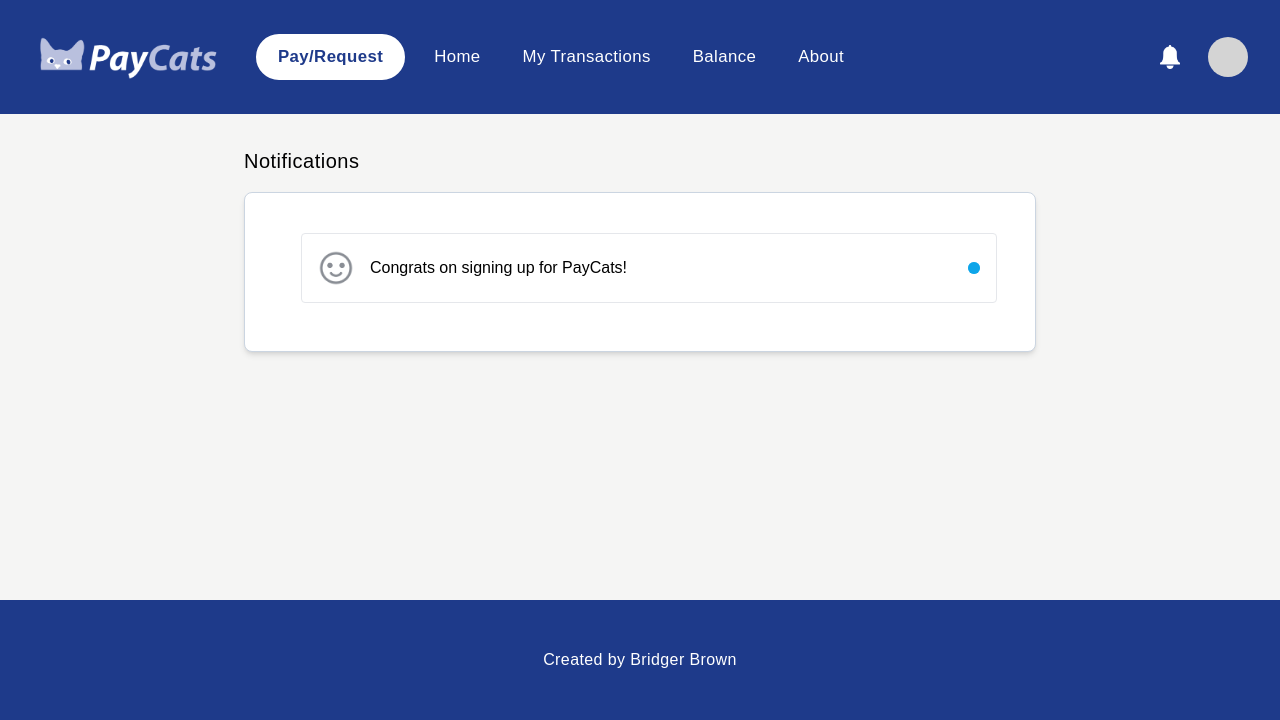
Scenario: Notification component › mark notifications as read on mouse over
Expected: the element with test id "notification-unread" is shown, [301, 233, 997, 303]
Hover over the link with test id "notification-unread" at {"x": 641, "y": 268}, box [285, 225, 997, 311]
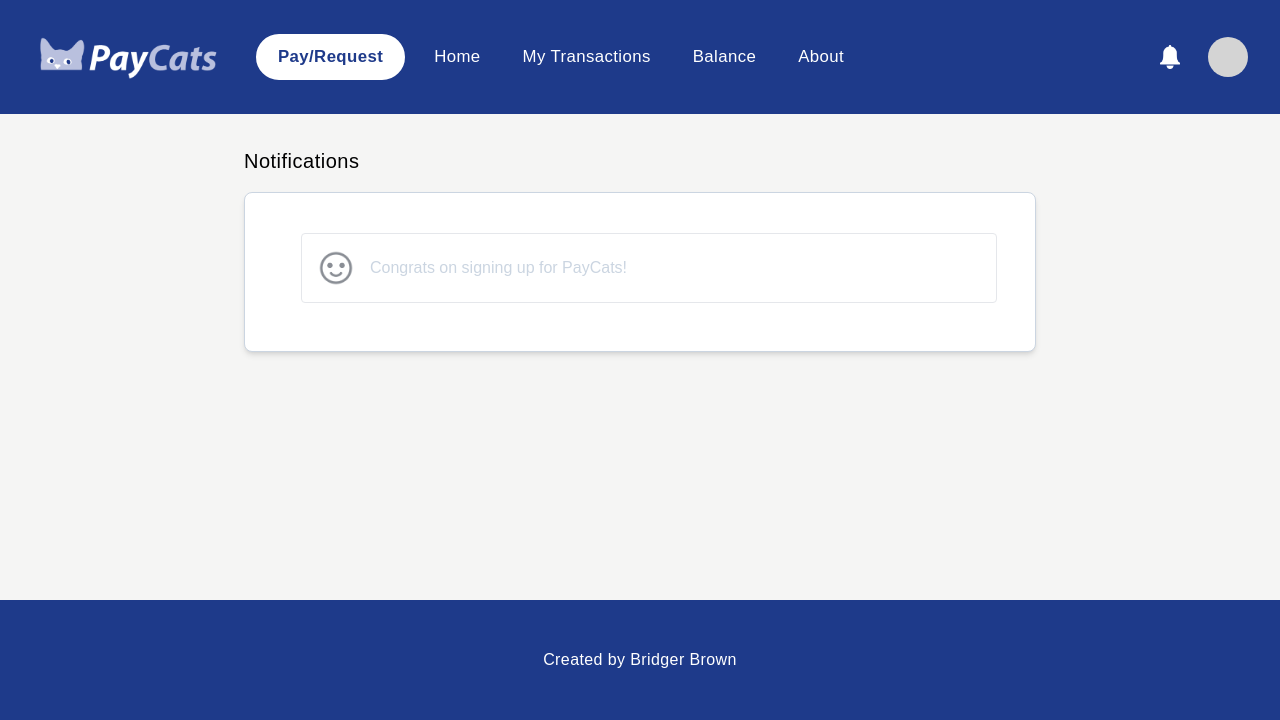
Result: the element with test id "notification-read" is shown at [301, 233, 997, 303]
